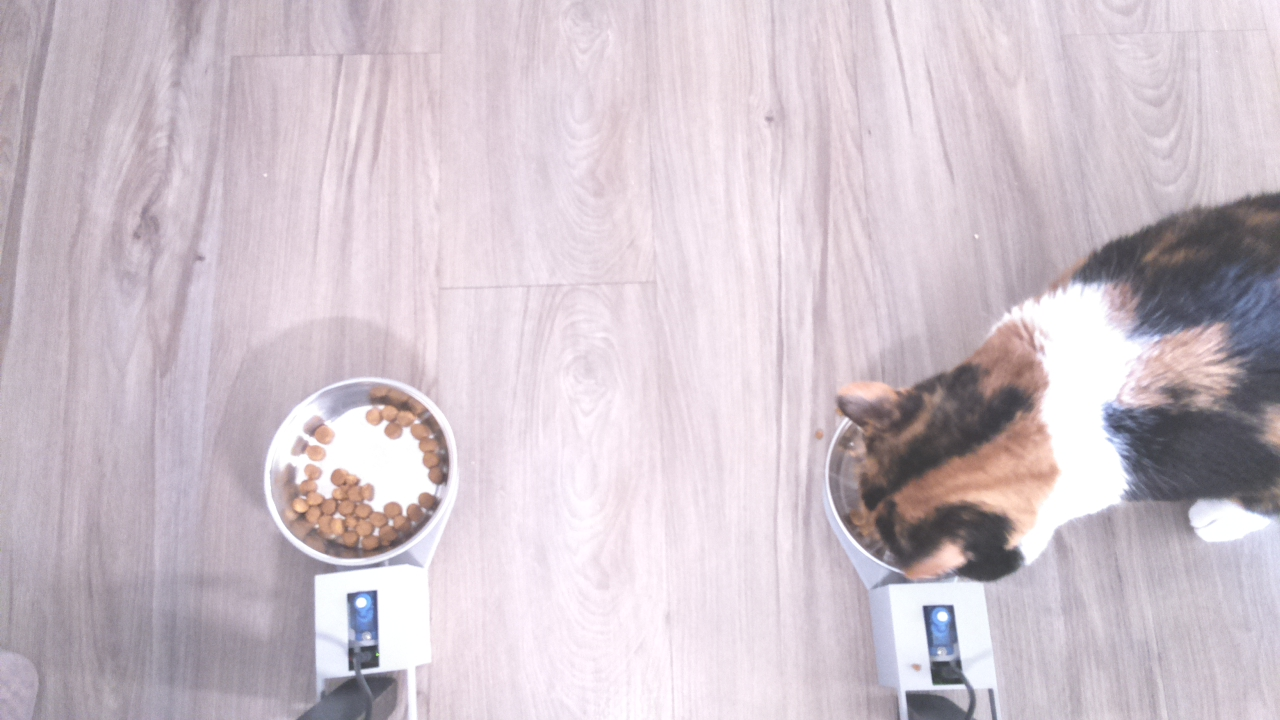bella_eating: (826, 323, 1143, 604)
open_bowl: (259, 376, 461, 566)
